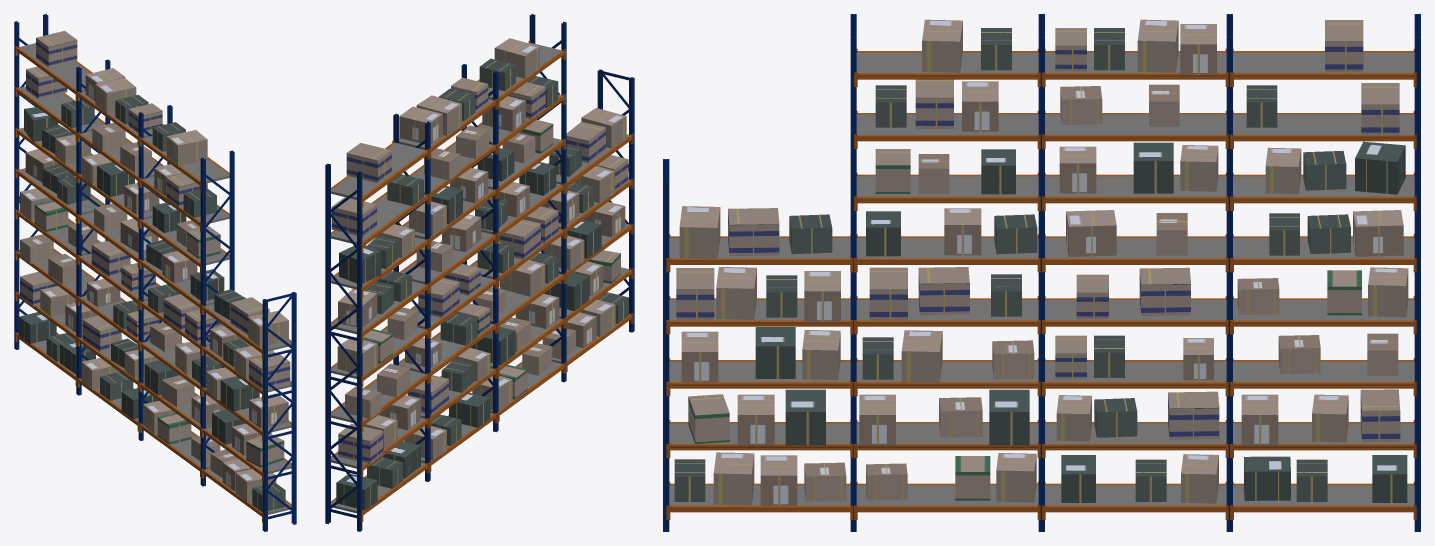
File: storage-rack.fbx
3 views of the same model, side by side, from view 1: azimuth 30°, elevation 25°; view 2: azimuth 150°, elevation 25°; view 3: azimuth 270°, elevation 25° (orthographic). The views are drawn at different scales.
Parts seen in each view (by area): view 1: mezanine racking.009, mezanine racking.008, mezanine racking.010, mezanine racking.011, dus.481, dus.570, dus.517, dus.514, dus.545, dus.537, dus.549, dus.560 (+74 smaller); view 2: mezanine racking.009, mezanine racking.008, mezanine racking.011, mezanine racking.010, dus.481, dus.534, dus.570, dus.568, dus.482, dus.497, dus.567, dus.493 (+74 smaller); view 3: mezanine racking.009, mezanine racking.011, mezanine racking.008, dus.514, dus.548, dus.493, dus.517, dus.567, mezanine racking.010, dus.561, dus.555, dus.532 (+74 smaller).
Part boxes in pixels (x1,y1,x2,y2): mezanine racking.009: [15, 43, 229, 477]; mezanine racking.008: [14, 14, 234, 486]; mezanine racking.010: [262, 292, 296, 531]; mezanine racking.011: [201, 304, 291, 522]; dus.481: [36, 30, 77, 67]; dus.570: [166, 130, 207, 166]; dus.517: [91, 240, 130, 277]; dus.514: [82, 315, 121, 351]; dus.545: [249, 354, 290, 389]; dus.537: [95, 77, 136, 113]; dus.549: [248, 311, 288, 347]; dus.560: [220, 376, 259, 411]; mezanine racking.009: [330, 41, 565, 521]; mezanine racking.008: [325, 14, 566, 531]; mezanine racking.011: [548, 133, 633, 372]; mezanine racking.010: [597, 69, 634, 332]; dus.481: [346, 143, 391, 182]; dus.534: [399, 106, 442, 144]; dus.570: [494, 38, 539, 78]; dus.568: [338, 423, 383, 463]; dus.482: [331, 197, 376, 236]; dus.497: [500, 260, 545, 296]; dus.567: [339, 245, 381, 283]; dus.493: [499, 219, 540, 259]; mezanine racking.009: [854, 48, 1416, 519]; mezanine racking.011: [666, 234, 853, 519]; mezanine racking.008: [850, 14, 1420, 531]; dus.514: [1168, 391, 1219, 439]; dus.548: [728, 208, 779, 256]; dus.493: [918, 267, 969, 315]; dus.517: [1139, 267, 1190, 315]; dus.567: [1355, 141, 1405, 194]; mezanine racking.010: [663, 159, 669, 531]; dus.561: [989, 389, 1029, 445]; dus.555: [785, 389, 825, 445]; dus.532: [1066, 210, 1116, 256].
Size of the model in its own units: 67.85 by 600 by 833.
